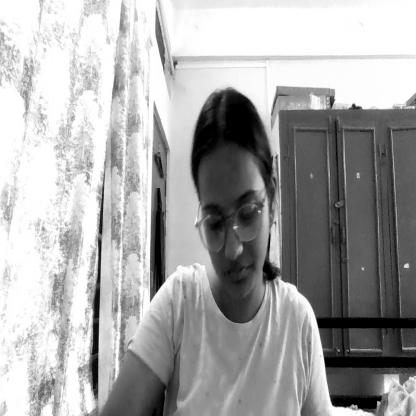Distracted: (196, 108, 268, 304)
